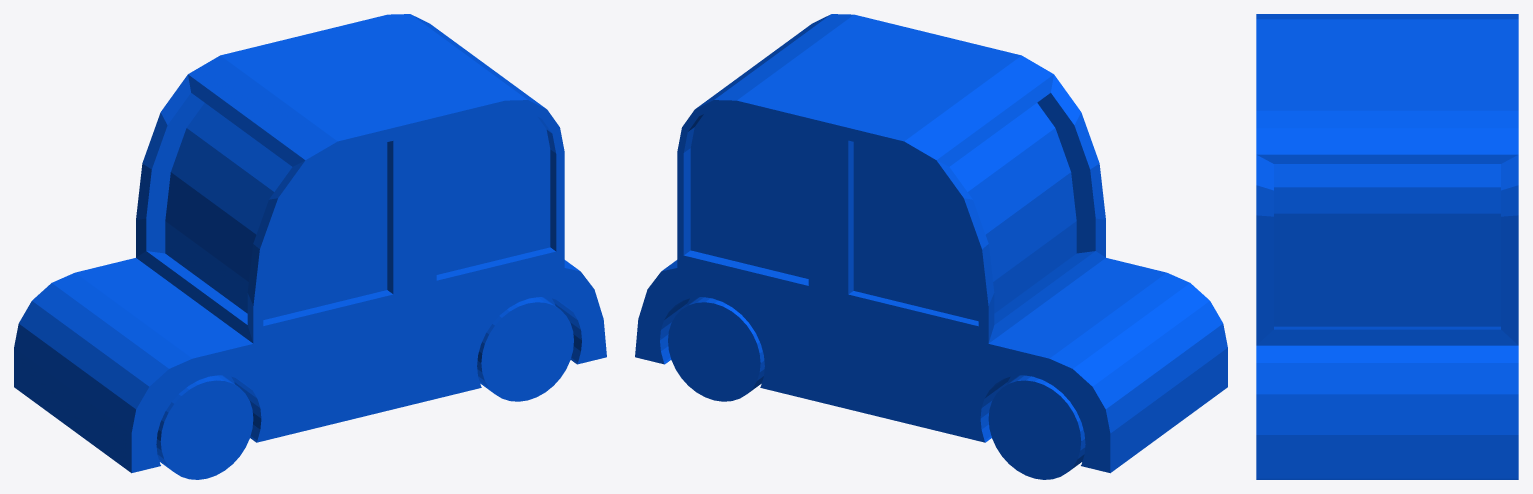
The model's file is CarBlue.fbx.
3 renders of one model, left to right at view 1: azimuth 30°, elevation 25°; view 2: azimuth 150°, elevation 25°; view 3: azimuth 270°, elevation 25°, orthographic. The views are drawn at different scales.
Visible parts, largest first — view 1: CarBody, CarWheels; view 2: CarBody, CarWheels; view 3: CarBody.
Boxes of the visible parts, x1=… form: CarBody: x1=14, y1=14, x2=606, y2=473; CarWheels: x1=156, y1=297, x2=573, y2=479; CarBody: x1=635, y1=14, x2=1227, y2=473; CarWheels: x1=668, y1=297, x2=1085, y2=479; CarBody: x1=1256, y1=14, x2=1518, y2=479.
Size of the model in its own units: 467 by 288 by 200.
